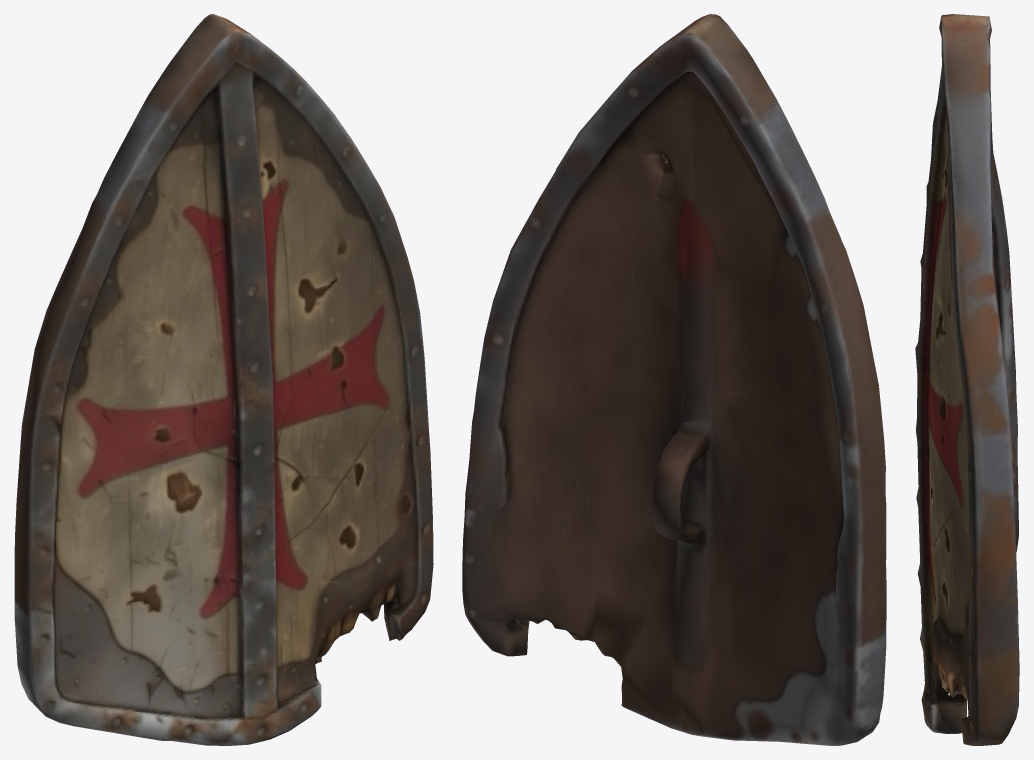
The model's file is 1743_shield.glb.
3 views of the same model, side by side, from view 1: azimuth 30°, elevation 25°; view 2: azimuth 150°, elevation 25°; view 3: azimuth 270°, elevation 25° (orthographic). The views are drawn at different scales.
Parts seen in each view (by area): view 1: Model; view 2: Model; view 3: Model.
Part boxes in pixels (bbox=[...]): Model: bbox=[14, 14, 433, 745]; Model: bbox=[462, 14, 886, 745]; Model: bbox=[915, 14, 1019, 745].
Bounding box in the file's own units: 0.595 × 1 × 0.1363.
1 material, 1 textured.
